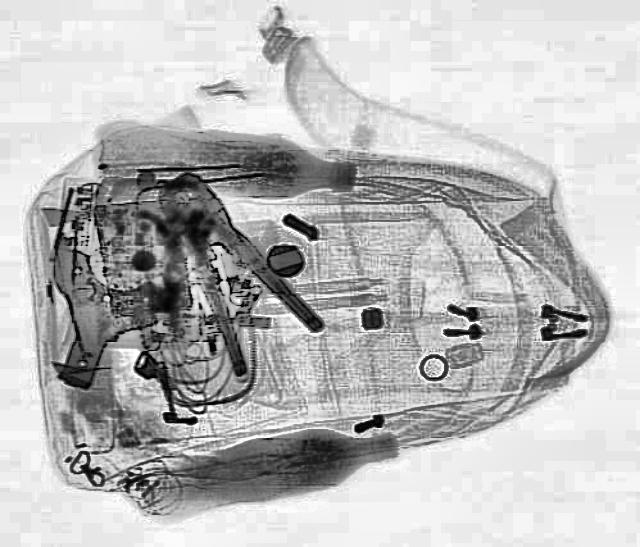Pliers: (120, 158, 332, 376)
